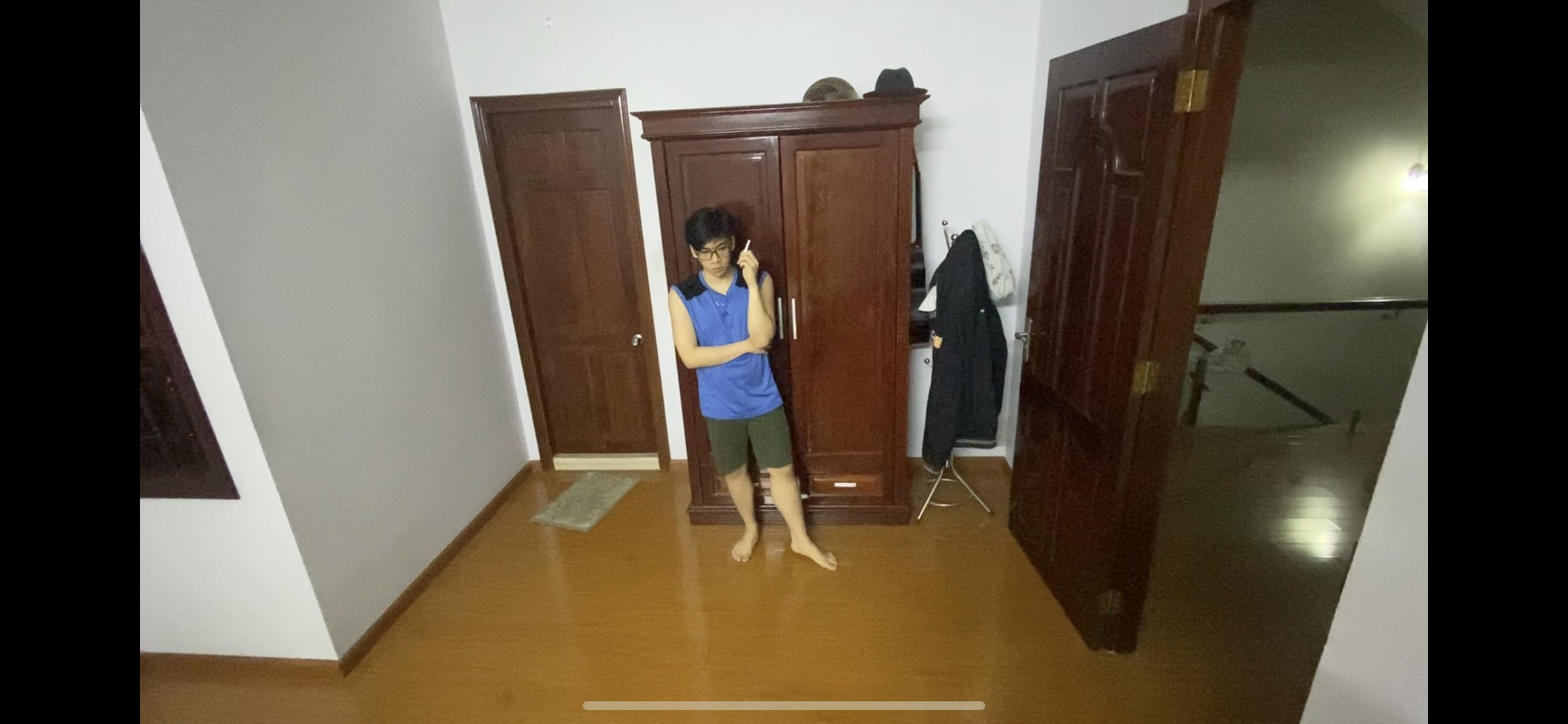cigarette: (742, 233, 753, 255)
person: (662, 200, 844, 581)
